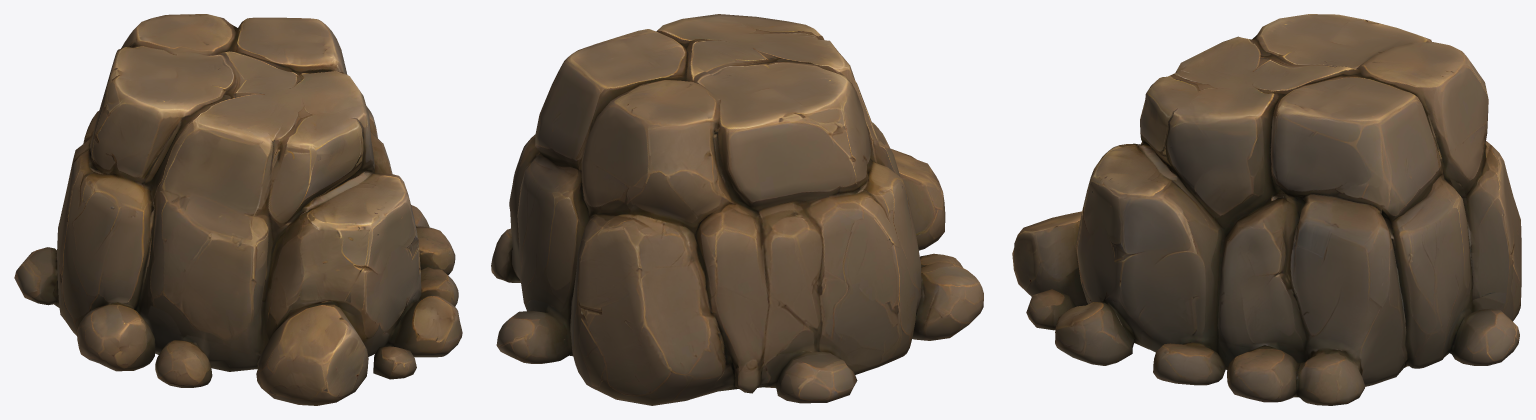
File: pila_de_rocas.fbx
3 renders of one model, left to right at view 1: azimuth 30°, elevation 25°; view 2: azimuth 150°, elevation 25°; view 3: azimuth 270°, elevation 25°, orthographic. The views are drawn at different scales.
Visible parts, largest first — view 1: tripo_node_bc5eb4d0; view 2: tripo_node_bc5eb4d0; view 3: tripo_node_bc5eb4d0.
Boxes of the visible parts, left/top/right/bottom form: tripo_node_bc5eb4d0: left=14, top=14, right=462, bottom=405; tripo_node_bc5eb4d0: left=491, top=14, right=983, bottom=405; tripo_node_bc5eb4d0: left=1012, top=14, right=1521, bottom=405.
Bounding box in the file's own units: 94.11 × 55.2 × 99.88.
1 material, 1 textured.
